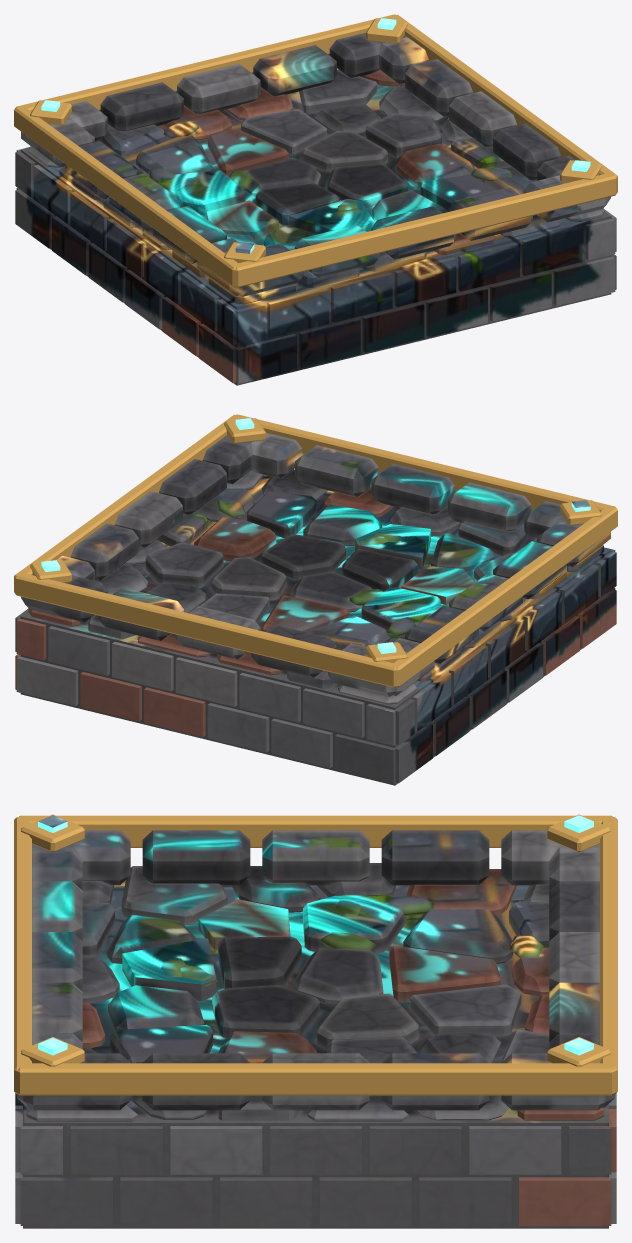
Rendered from rain_plate.glb.
The picture shows the model from 3 angles, top to bottom: view 1: azimuth 30°, elevation 25°; view 2: azimuth 150°, elevation 25°; view 3: azimuth 270°, elevation 25°; orthographic projection. The views are drawn at different scales.
Visible parts, largest first — view 1: rain_plate; view 2: rain_plate; view 3: rain_plate.
Boxes of the visible parts, left/top/right/bottom form: rain_plate: left=14, top=14, right=617, bottom=385; rain_plate: left=14, top=414, right=617, bottom=785; rain_plate: left=14, top=814, right=617, bottom=1228.
Size of the model in its own units: 2.02 by 0.635 by 2.02.
Materials: 2 (1 with a texture image).
